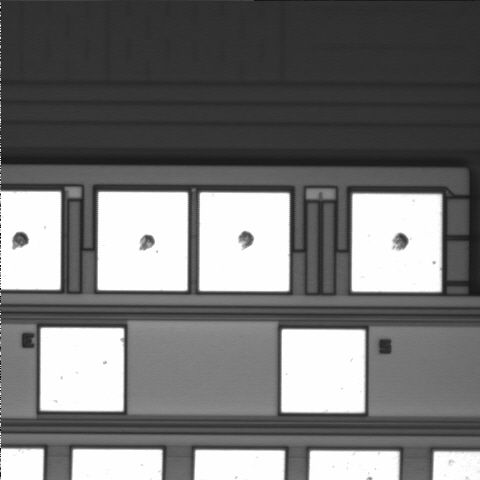pad: (98, 192, 188, 291), (199, 192, 289, 291), (352, 194, 442, 292), (281, 329, 365, 413), (40, 328, 124, 411)
